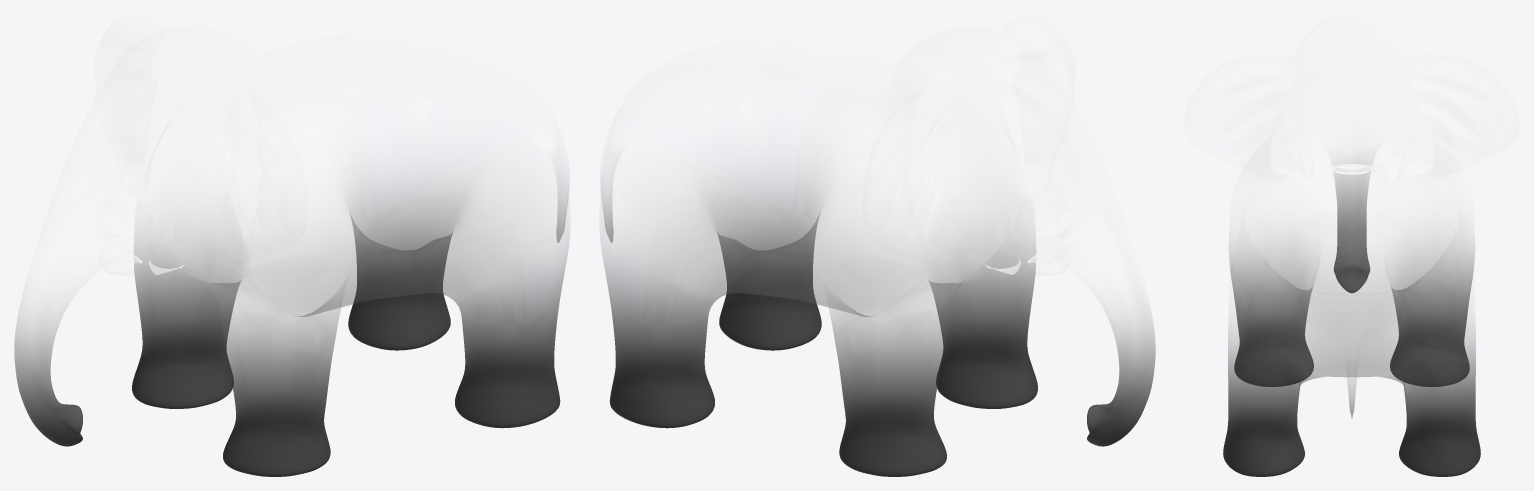
The model's file is elephant-new.glb.
3 renders of one model, left to right at view 1: azimuth 30°, elevation 25°; view 2: azimuth 150°, elevation 25°; view 3: azimuth 270°, elevation 25°, orthographic. The views are drawn at different scales.
Parts seen in each view (by area): view 1: ele.耳朵.005; view 2: ele.耳朵.005; view 3: ele.耳朵.005.
Part boxes in pixels (x1,y1,x2,y2): ele.耳朵.005: (14, 153, 569, 476); ele.耳朵.005: (600, 153, 1155, 476); ele.耳朵.005: (1223, 148, 1480, 476).
Size of the model in its own units: 40.78 by 28.19 by 25.96.
1 material, 1 textured.
